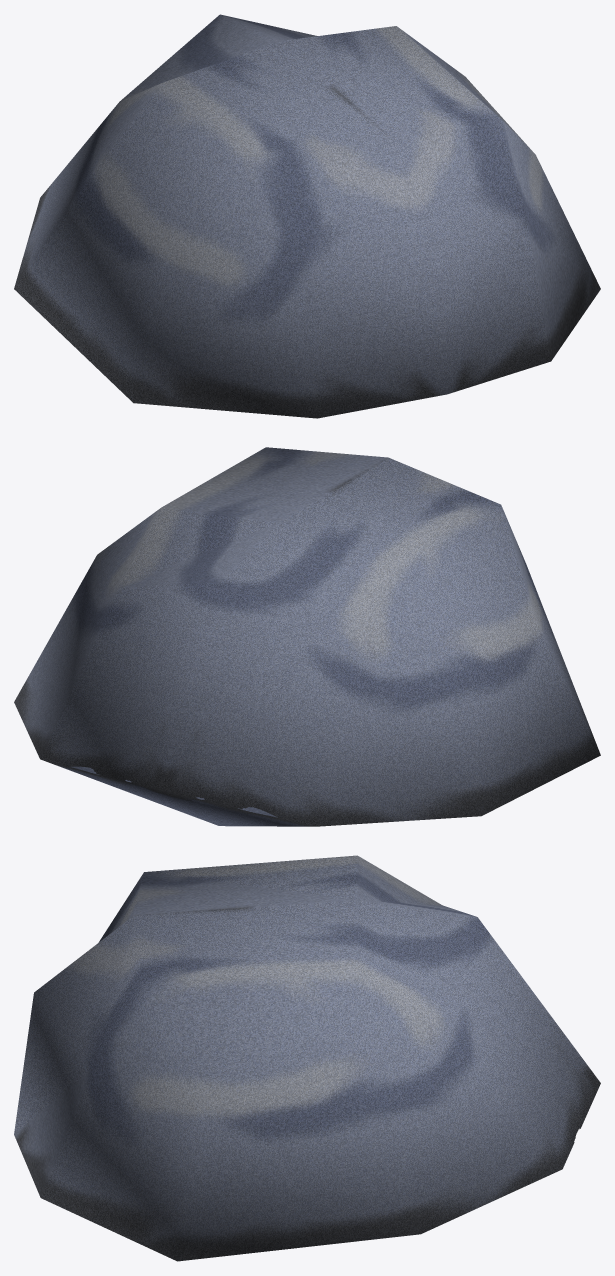
File: Stonev1.dae
The picture shows the model from 3 angles, top to bottom: view 1: azimuth 30°, elevation 25°; view 2: azimuth 150°, elevation 25°; view 3: azimuth 270°, elevation 25°; orthographic projection.
Parts seen in each view (by area): view 1: Cube; view 2: Cube; view 3: Cube.
Boxes of the visible parts, <box> form: Cube: <box>14,14,600,418</box>; Cube: <box>14,447,600,826</box>; Cube: <box>14,855,600,1261</box>.
Bounding box in the file's own units: 1.32 × 1.41 × 0.7326.
1 material, 1 textured.
